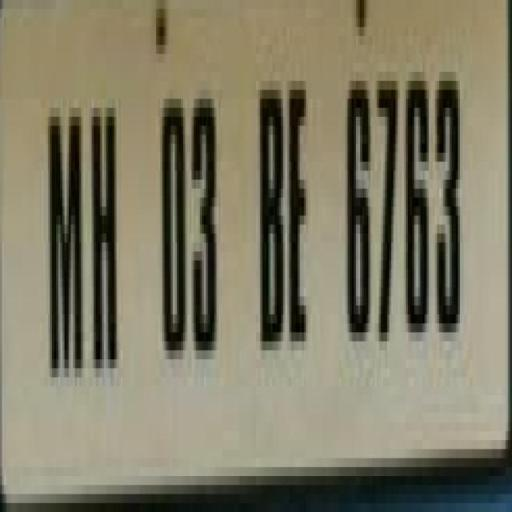number plate: (0, 0, 491, 512)
